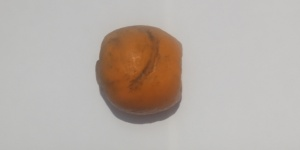BAD: (101, 26, 183, 115)
